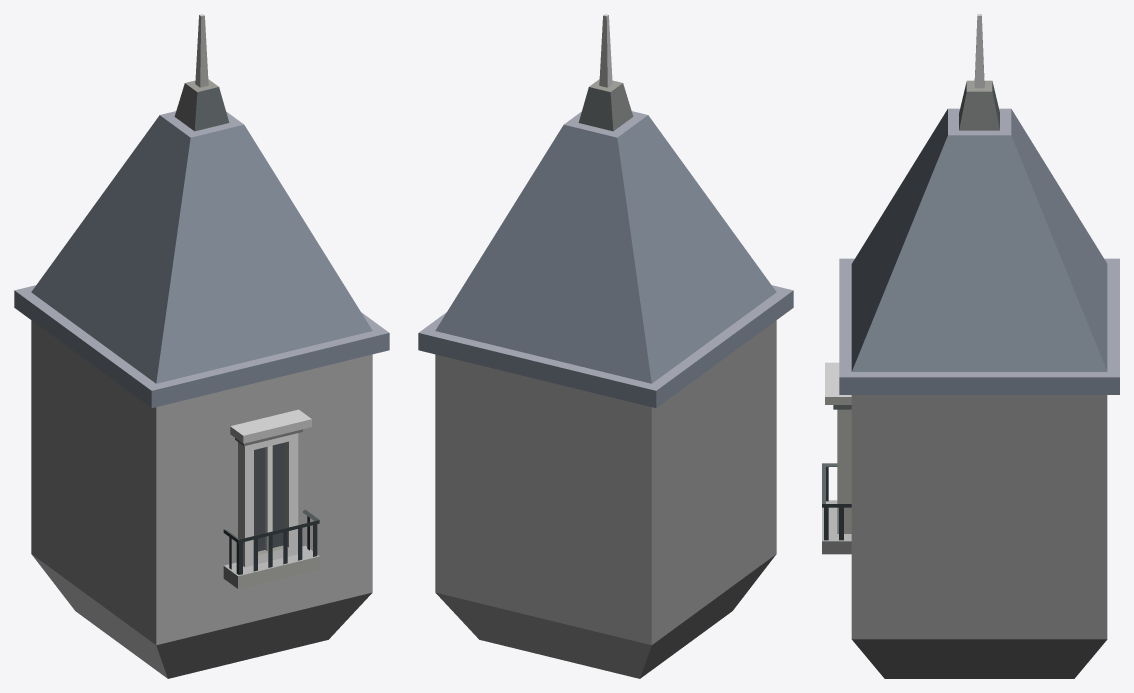
Rendered from TB_CITY_BD_Part_P_A.FBX.
3 views of the same model, side by side, from view 1: azimuth 30°, elevation 25°; view 2: azimuth 150°, elevation 25°; view 3: azimuth 270°, elevation 25° (orthographic). The views are drawn at different scales.
Parts seen in each view (by area): view 1: TB_CITY_BD_Part_P_A; view 2: TB_CITY_BD_Part_P_A; view 3: TB_CITY_BD_Part_P_A.
Boxes of the visible parts, x1,y1,x2,y2 form: TB_CITY_BD_Part_P_A: (14, 14, 389, 678); TB_CITY_BD_Part_P_A: (418, 14, 793, 678); TB_CITY_BD_Part_P_A: (822, 14, 1119, 678).
Size of the model in its own units: 5.7 by 13.98 by 6.05.
